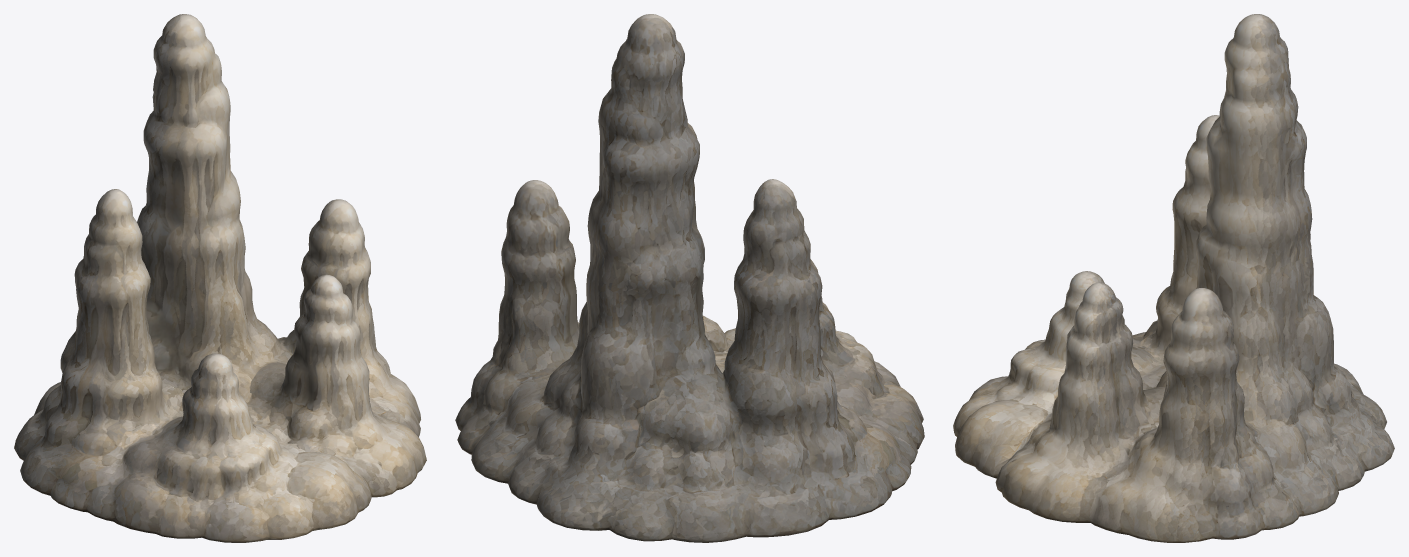
Rendered from dungeon_stalagmites.glb.
3 views of the same model, side by side, from view 1: azimuth 30°, elevation 25°; view 2: azimuth 150°, elevation 25°; view 3: azimuth 270°, elevation 25° (orthographic). The views are drawn at different scales.
Visible parts, largest first — view 1: tripo_8882be93_f195_48a7_8192_09d3cb18107a; view 2: tripo_8882be93_f195_48a7_8192_09d3cb18107a; view 3: tripo_8882be93_f195_48a7_8192_09d3cb18107a.
Part boxes in pixels (left/top/right/bottom): tripo_8882be93_f195_48a7_8192_09d3cb18107a: left=14, top=14, right=426, bottom=542; tripo_8882be93_f195_48a7_8192_09d3cb18107a: left=455, top=14, right=924, bottom=542; tripo_8882be93_f195_48a7_8192_09d3cb18107a: left=953, top=14, right=1394, bottom=542.
Size of the model in its own units: 0.9478 by 0.9995 by 0.9292.
Materials: 1 (1 with a texture image).
